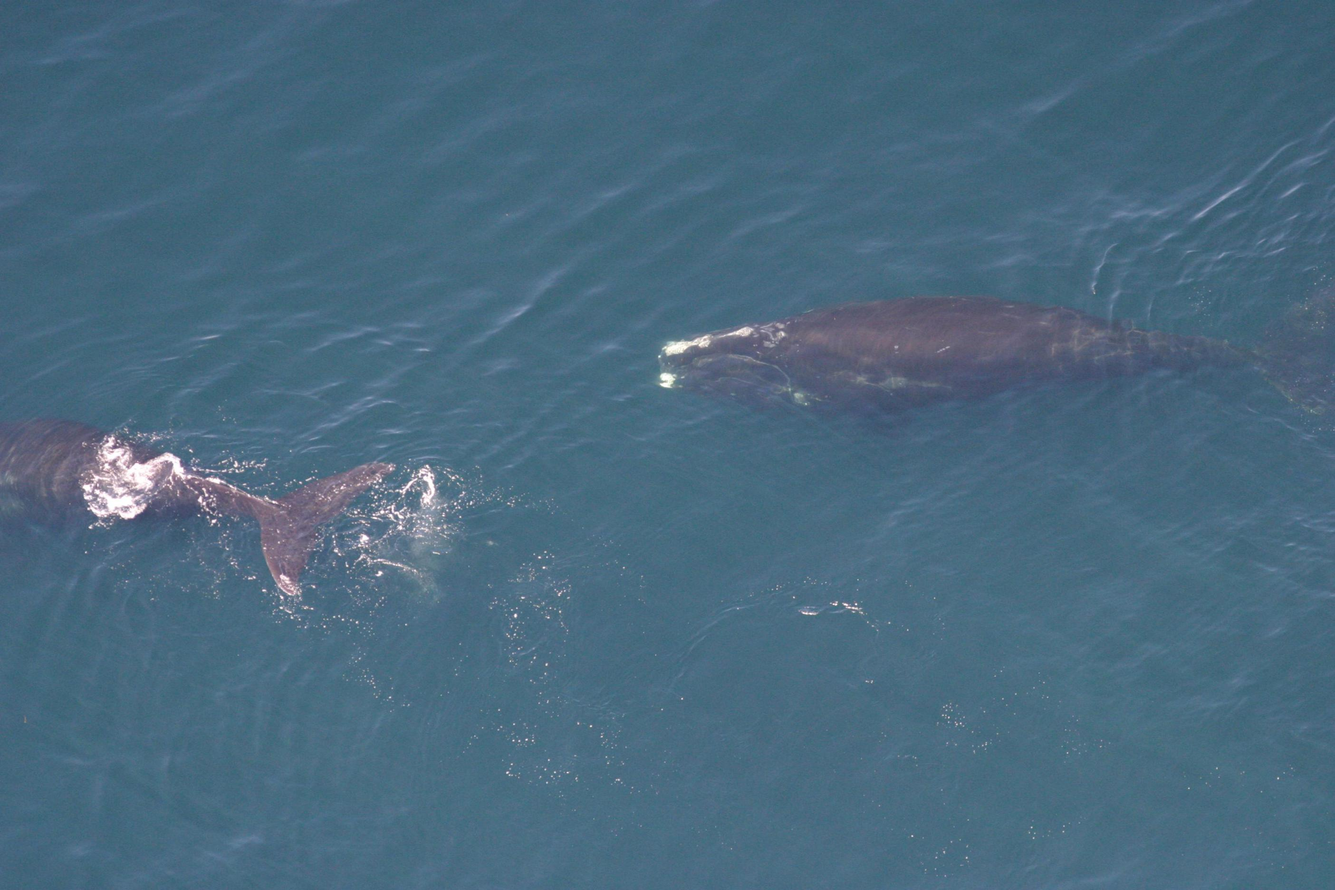whale: (647, 261, 1335, 451), (0, 410, 398, 606)
